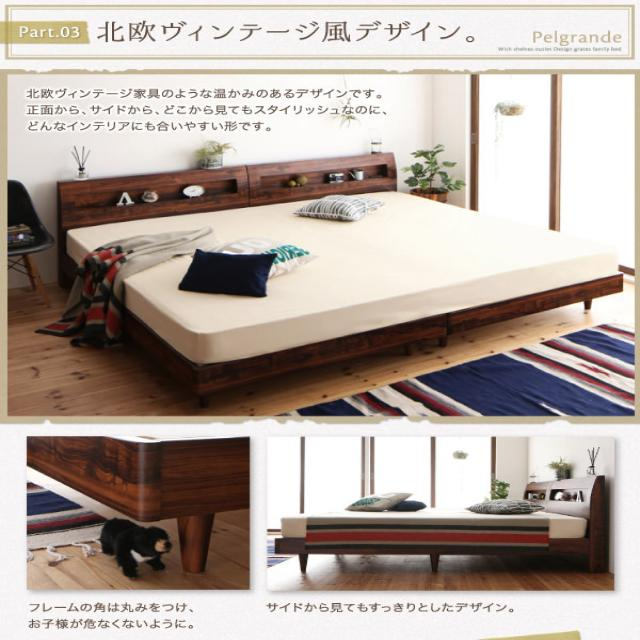bed vintage: (32, 149, 627, 394)
